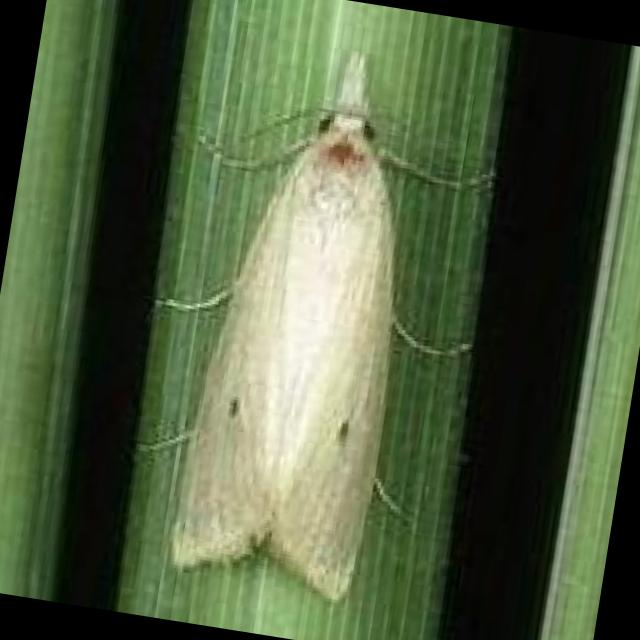stem-borer: (150, 24, 487, 610)
